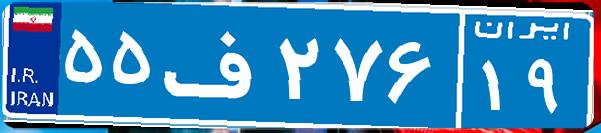1: (475, 38, 525, 113)
2: (273, 28, 330, 110)
5: (57, 26, 110, 107), (110, 28, 158, 105)
6: (385, 28, 445, 110)
7: (330, 28, 385, 110)
9: (525, 38, 570, 115)
ف: (158, 15, 273, 115)
